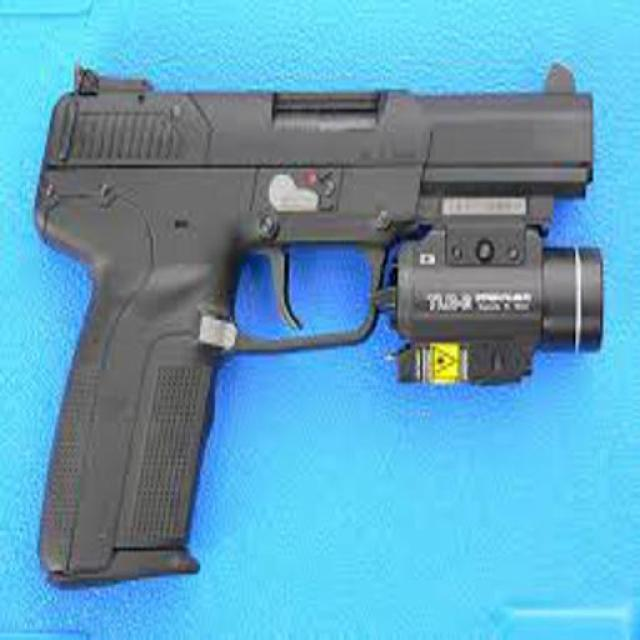pistol: (14, 48, 603, 576)
